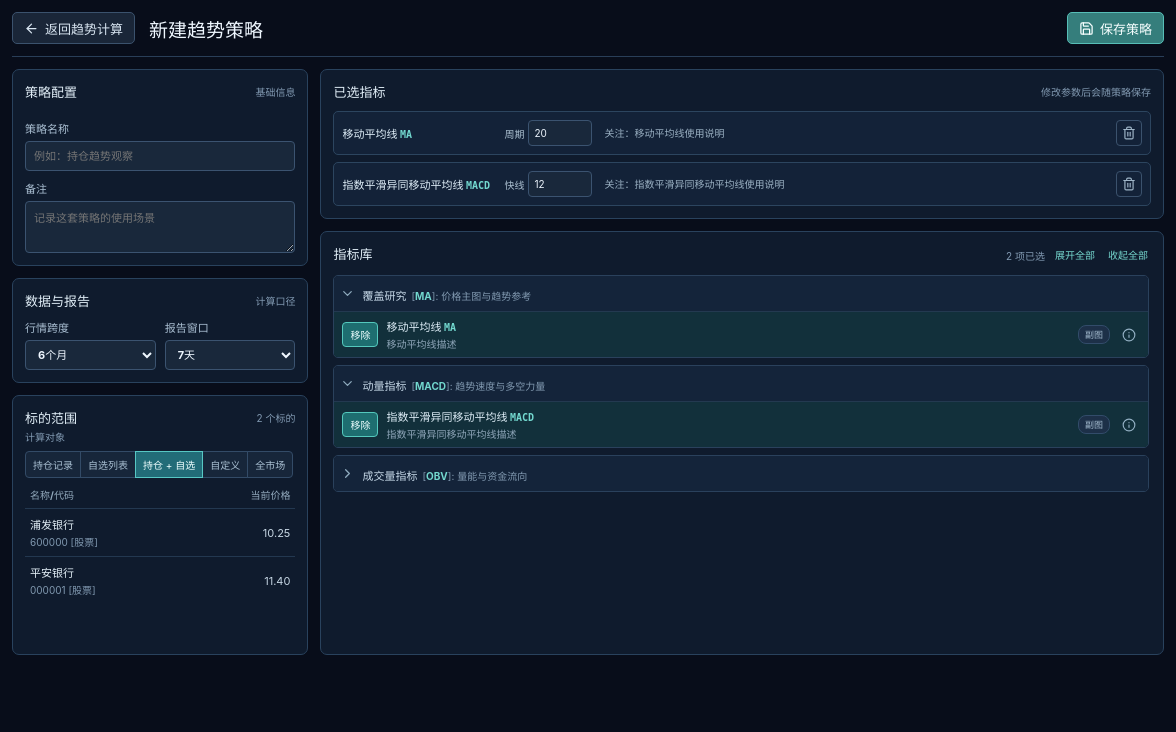
Test: TrendStrategyEditorView › groups the catalog and keeps target scope in the left work column
Expected: the element with class "strategy-settings-column" shows "标的范围", [25, 410, 77, 426]
Expected: the element with class "strategy-settings-column" shows "自定义", [202, 451, 248, 478]
Click the button with aria-label "展开成交量指标" at (390, 476), box [338, 458, 1140, 490]
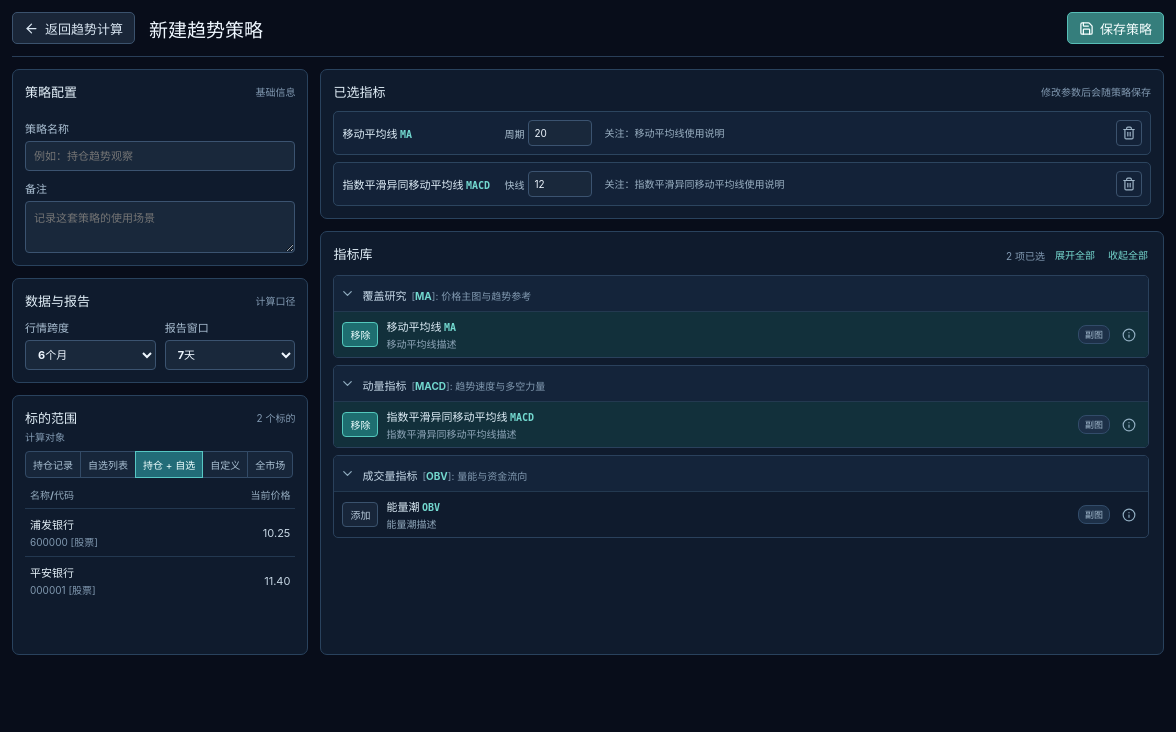
Click the button with aria-label "添加 OBV" at (360, 514), box [342, 502, 378, 527]
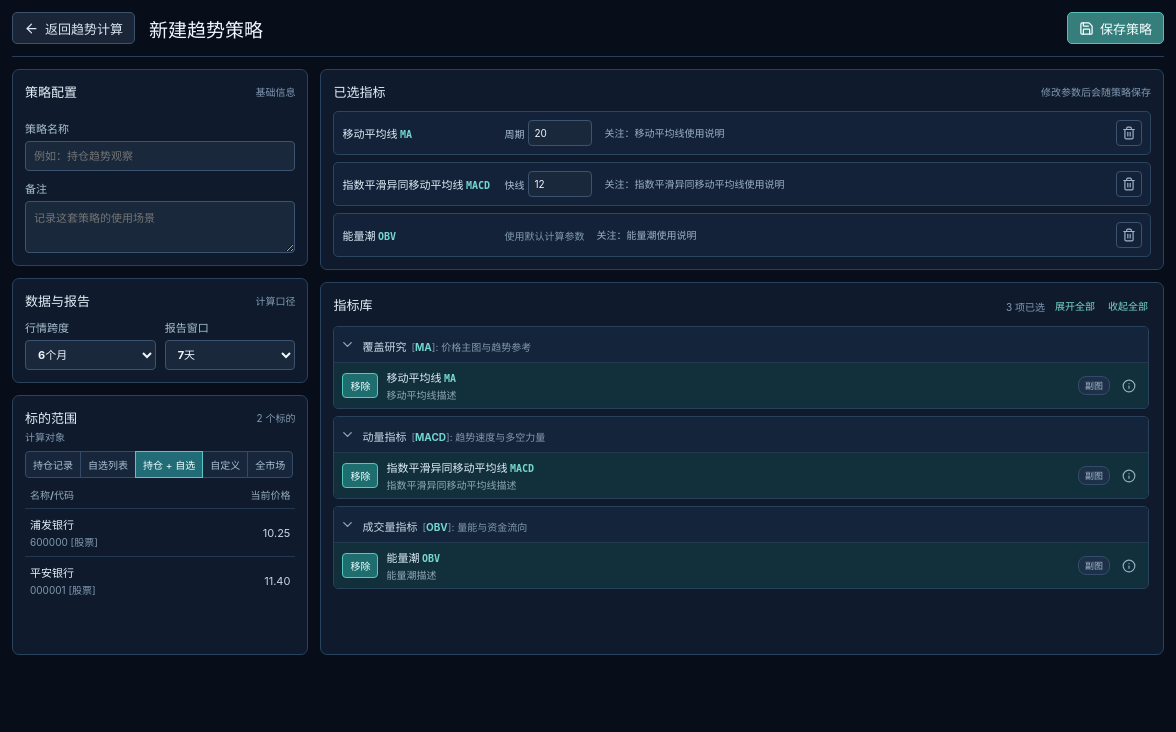
Expected: the button with aria-label "移除 OBV" reads "移除", [342, 553, 378, 578]
Click the button named "从策略中移除 OBV" at (1129, 235), box [1116, 222, 1142, 248]
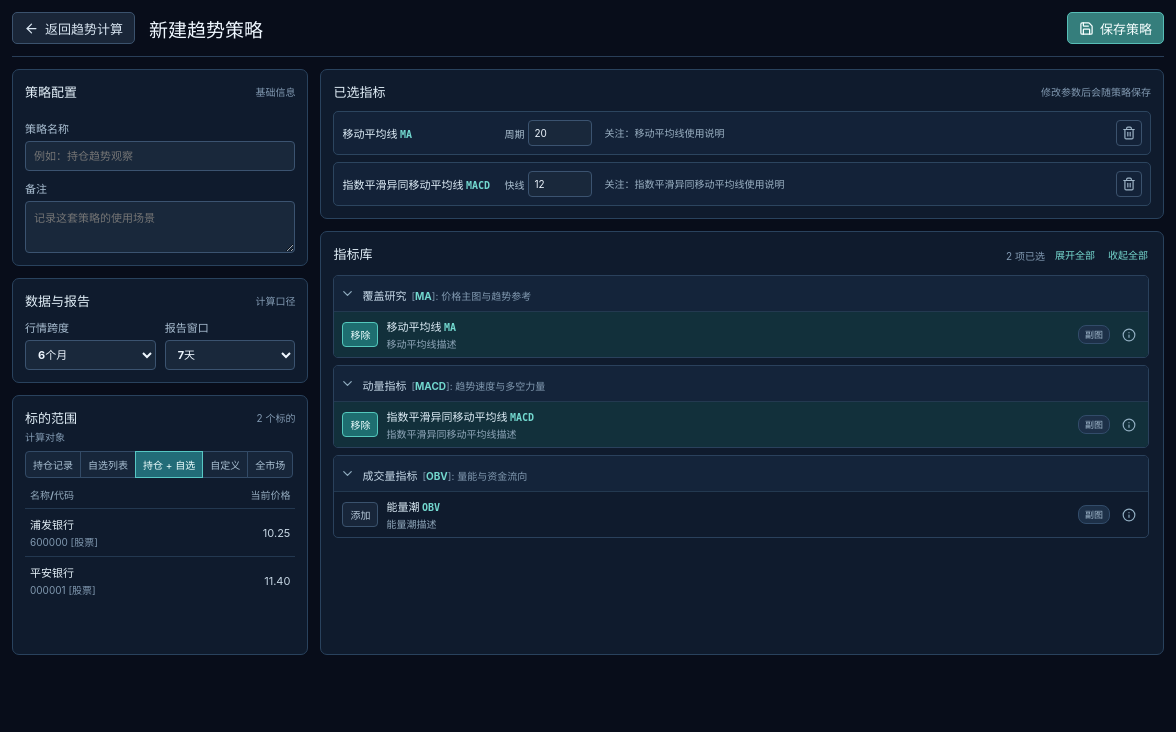
Expected: the button with aria-label "添加 OBV" reads "添加", [342, 502, 378, 527]
